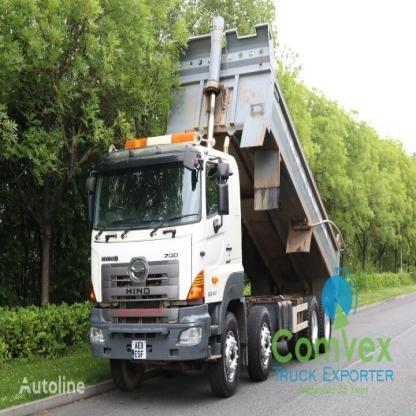dump_truck: (69, 16, 349, 405)
